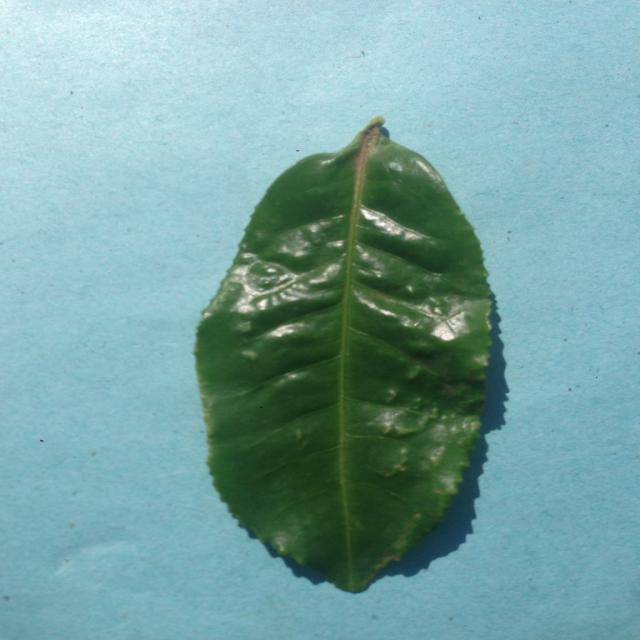Healthy: (158, 90, 520, 600)
